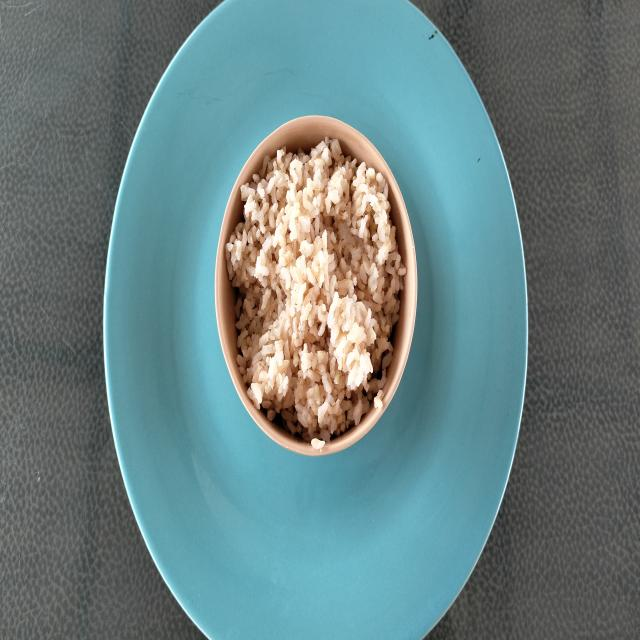brown-rice: (226, 140, 405, 443)
